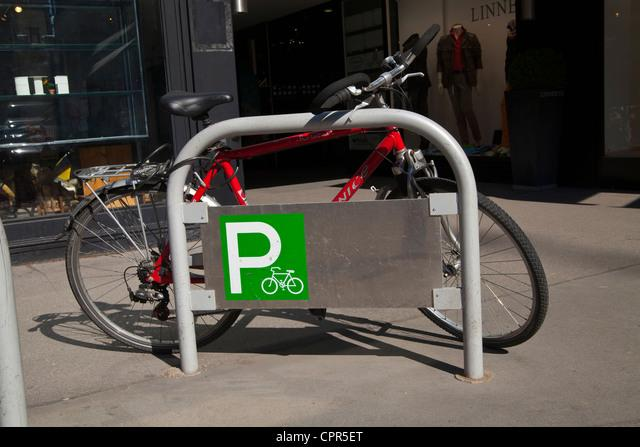Parking Lot Cycle: (209, 194, 312, 307)
